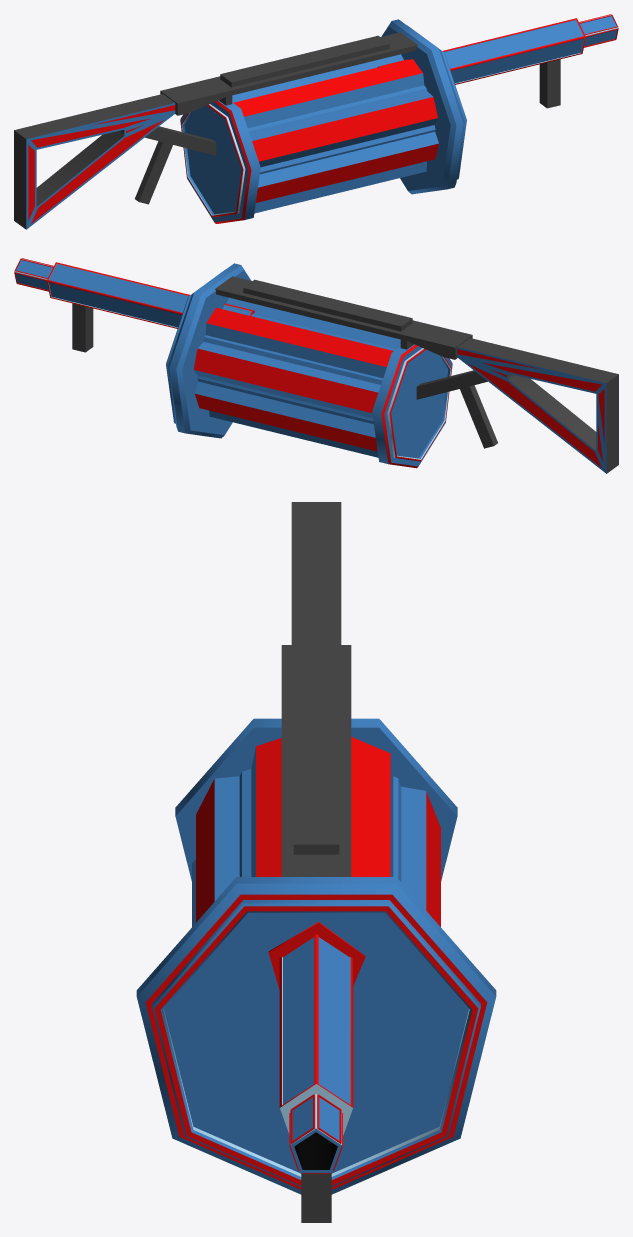
The model's file is LancePatate.fbx.
3 renders of one model, top to bottom at view 1: azimuth 30°, elevation 25°; view 2: azimuth 150°, elevation 25°; view 3: azimuth 270°, elevation 25°, orthographic. The views are drawn at different scales.
Visible parts, largest first — view 1: LancePatate, Cube_6, Cylindre_2, Cylindre_1, Cylindre, Cube_1, Cube_4, Cube_3, Cube; view 2: LancePatate, Cube_6, Cylindre_2, Cylindre_1, Cylindre, Cube_1, Cube_4, Cube_3, Cube; view 3: Cylindre, LancePatate, Cylindre_1, Cube_1, Cube_4, Cube_6, Cylindre_2, Tube, Cube.
Part boxes in pixels (<box>): LancePatate: <box>232,54,438,213</box>; Cube_6: <box>14,94,175,229</box>; Cylindre_2: <box>180,100,260,223</box>; Cylindre_1: <box>377,14,618,84</box>; Cylindre: <box>381,19,466,194</box>; Cube_1: <box>160,32,417,115</box>; Cube_4: <box>220,35,389,87</box>; Cube_3: <box>135,126,216,204</box>; Cube: <box>539,59,560,108</box>; LancePatate: <box>193,297,400,457</box>; Cube_6: <box>457,338,618,473</box>; Cylindre_2: <box>372,344,452,468</box>; Cylindre_1: <box>14,258,254,328</box>; Cylindre: <box>166,263,251,438</box>; Cube_1: <box>215,276,472,359</box>; Cube_4: <box>243,279,412,331</box>; Cube_3: <box>416,370,497,448</box>; Cube: <box>72,303,93,352</box>; Cylindre: <box>136,877,496,1194</box>; LancePatate: <box>192,737,440,926</box>; Cylindre_1: <box>279,934,353,1173</box>; Cube_1: <box>281,645,351,876</box>; Cube_4: <box>293,690,339,854</box>; Cube_6: <box>291,502,341,644</box>; Cylindre_2: <box>175,718,457,881</box>; Tube: <box>268,922,365,989</box>; Cube: <box>301,1173,331,1222</box>.
Bounding box in the file's own units: 28.47 × 7.42 × 7.48.
